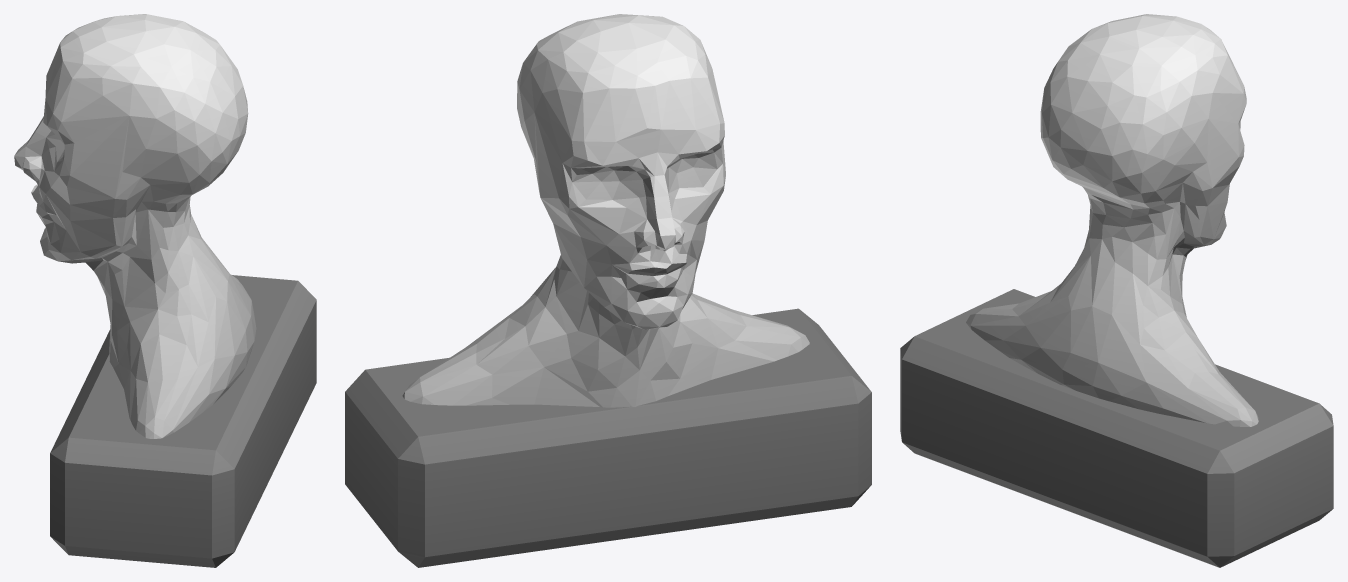
File: art-bust-statue.glb
3 views of the same model, side by side, from view 1: azimuth 30°, elevation 25°; view 2: azimuth 150°, elevation 25°; view 3: azimuth 270°, elevation 25° (orthographic). The views are drawn at different scales.
Visible parts, largest first — view 1: Object_16; view 2: Object_16; view 3: Object_16.
Part boxes in pixels (x1,y1,x2,y2): Object_16: (14,14,316,567); Object_16: (345,14,871,567); Object_16: (900,14,1333,567).
Bounding box in the file's own units: 0.9656 × 1.15 × 1.02.
1 material, 1 textured.
